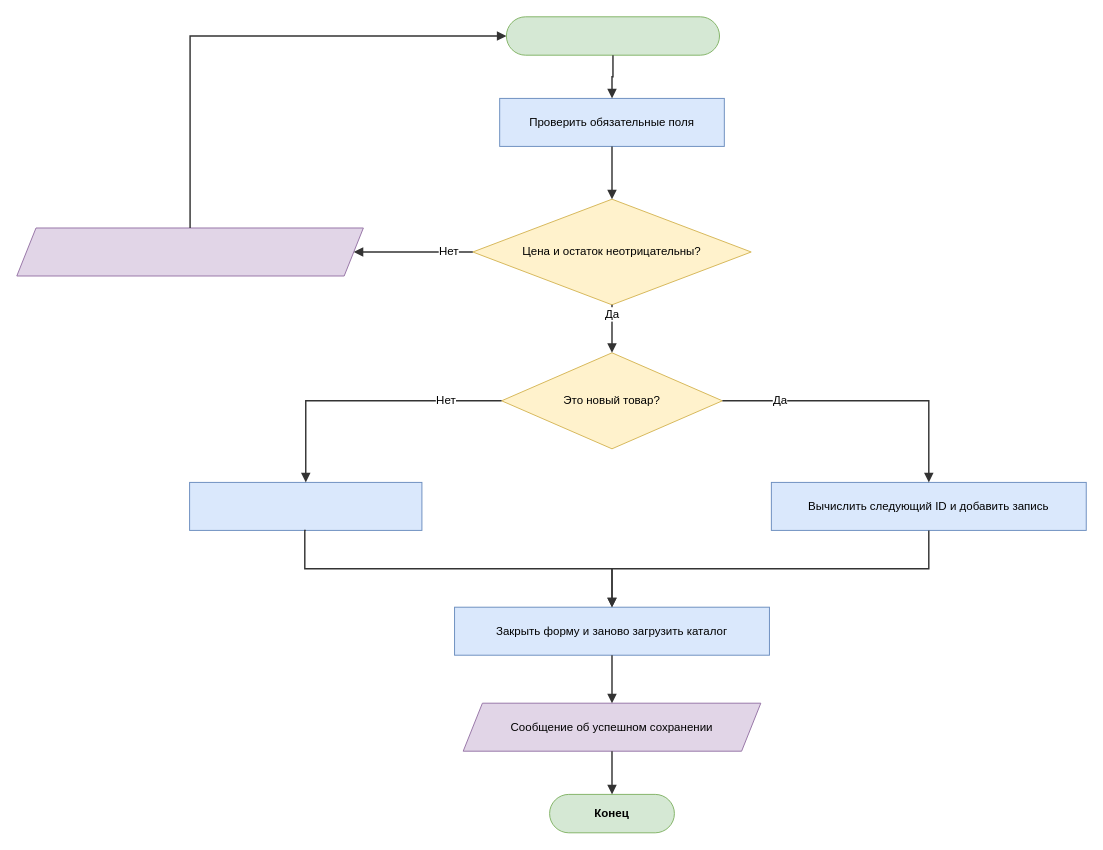
This 1103x850 diagram has some shape labels left out. The centre of each missing label's shape, as x and y in pixels:
"Заполнена форма товара" belongs at pixel 612 35.
"Обновить существующую запись" belongs at pixel 305 505.
"Подсветить поле и показать текст ошибки" belongs at pixel 189 251.
